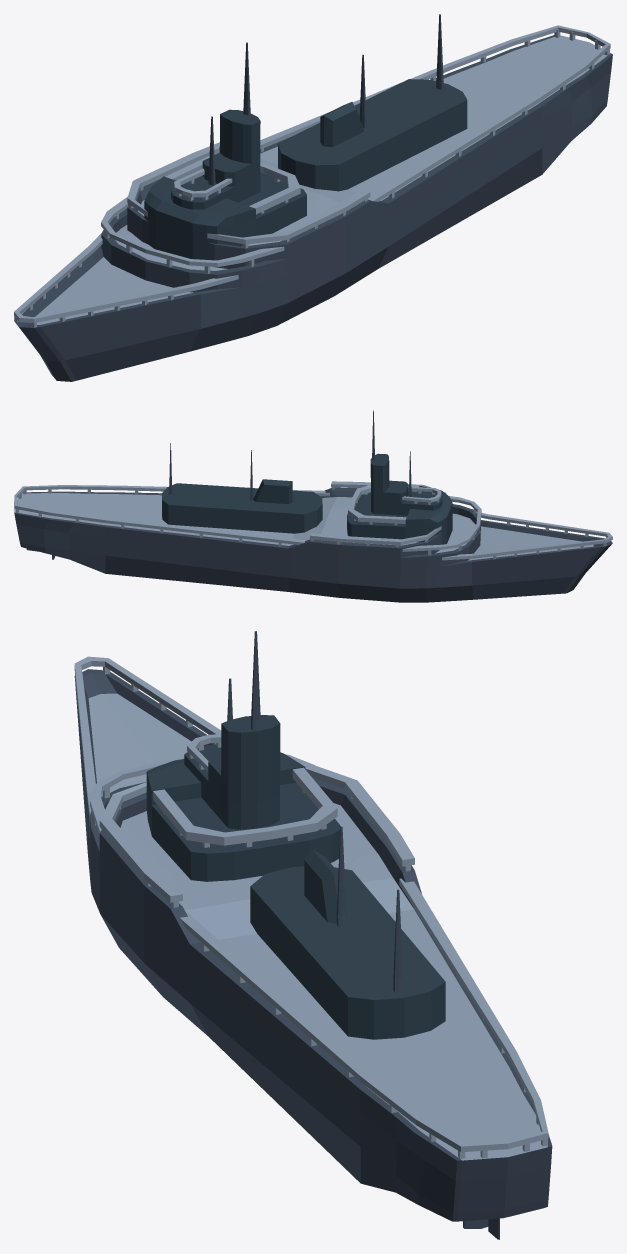
File: 27.06_Bubuia_navio1-0.fbx
The picture shows the model from 3 angles, top to bottom: view 1: azimuth 30°, elevation 25°; view 2: azimuth 150°, elevation 25°; view 3: azimuth 270°, elevation 25°; orthographic projection. The views are drawn at different scales.
Visible parts, largest first — view 1: Cube.027; view 2: Cube.027; view 3: Cube.027.
Part boxes in pixels (box(x1,y1,x2,y2)): Cube.027: box(14, 14, 612, 381); Cube.027: box(14, 410, 612, 602); Cube.027: box(74, 631, 552, 1239).
Bounding box in the file's own units: 63.07 × 20.59 × 26.23.
